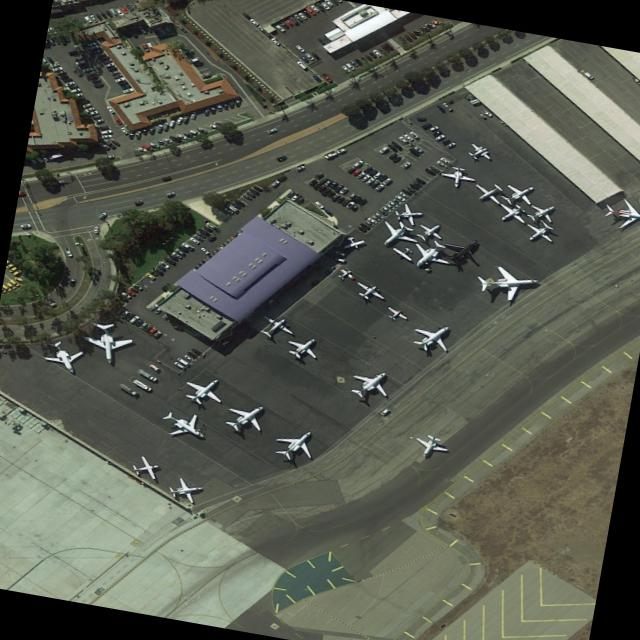large-vehicle: (116, 381, 138, 395), (134, 367, 157, 380), (130, 377, 152, 390), (45, 150, 64, 159), (125, 313, 139, 323), (175, 356, 189, 365), (171, 359, 184, 368), (378, 406, 389, 414), (333, 255, 345, 262), (97, 127, 111, 133), (631, 76, 640, 84)
plane: (264, 419, 328, 466), (340, 360, 402, 404), (214, 394, 277, 437), (153, 403, 216, 446), (401, 314, 463, 357), (433, 230, 494, 271), (472, 264, 541, 300), (175, 368, 234, 410), (79, 319, 133, 364), (400, 233, 456, 274), (367, 214, 423, 253), (39, 339, 89, 374), (493, 177, 544, 211), (250, 308, 299, 343), (279, 329, 327, 362), (515, 215, 562, 247), (464, 176, 512, 207), (407, 429, 451, 461), (601, 194, 640, 230), (519, 196, 565, 226), (488, 198, 533, 228), (436, 162, 476, 190), (165, 476, 206, 503), (409, 216, 448, 244), (347, 277, 387, 303), (127, 452, 164, 479), (391, 201, 424, 225), (461, 139, 495, 162), (379, 303, 409, 322), (388, 241, 416, 261), (330, 264, 358, 282), (338, 233, 367, 250)
small-vehicle: (579, 68, 593, 79), (101, 138, 115, 148), (178, 240, 193, 249), (162, 255, 175, 265), (295, 58, 306, 69), (440, 100, 452, 110), (413, 174, 425, 184), (385, 198, 398, 207), (272, 22, 285, 31), (146, 361, 159, 370), (189, 346, 202, 355), (169, 249, 182, 258), (171, 323, 184, 332), (107, 136, 120, 145), (232, 197, 245, 206), (128, 281, 142, 289), (409, 144, 423, 152), (122, 309, 133, 319), (403, 183, 415, 192), (410, 177, 422, 186), (276, 19, 288, 28), (246, 16, 258, 25), (379, 204, 391, 213), (376, 206, 388, 215), (186, 349, 198, 358), (172, 246, 184, 255), (160, 309, 172, 318), (159, 281, 171, 290), (407, 147, 419, 156), (396, 134, 408, 143), (229, 200, 241, 209), (322, 150, 337, 157), (432, 132, 445, 140), (156, 259, 169, 267), (200, 224, 213, 232), (122, 287, 135, 295), (221, 206, 234, 214), (480, 106, 491, 115), (289, 190, 300, 199), (397, 189, 408, 198), (407, 180, 418, 189), (304, 5, 315, 14), (313, 1, 324, 10), (282, 17, 293, 26), (320, 72, 331, 81), (343, 60, 354, 69), (150, 328, 161, 337), (112, 304, 123, 313), (147, 301, 158, 310), (357, 53, 368, 62), (315, 35, 326, 44), (385, 142, 396, 151), (401, 132, 412, 141), (348, 202, 359, 211), (240, 191, 251, 200), (135, 145, 149, 152), (382, 201, 394, 209), (438, 155, 450, 163), (265, 125, 277, 133), (309, 72, 321, 80), (268, 36, 280, 44), (372, 210, 384, 218), (187, 235, 199, 243), (190, 232, 202, 240), (194, 229, 206, 237), (196, 226, 208, 234), (204, 220, 216, 228), (116, 293, 128, 301), (92, 79, 104, 87), (96, 140, 108, 148), (372, 182, 384, 190), (407, 130, 419, 138), (343, 200, 355, 208), (246, 186, 258, 194), (83, 68, 96, 75), (89, 75, 102, 82), (112, 75, 125, 82), (181, 130, 194, 137), (166, 134, 179, 141), (82, 104, 95, 111), (88, 112, 101, 119), (366, 179, 379, 186), (250, 184, 263, 191), (285, 188, 294, 198), (296, 10, 306, 19), (300, 8, 310, 17), (378, 42, 388, 51), (382, 40, 392, 49), (198, 245, 208, 254), (64, 82, 79, 88), (152, 138, 167, 144), (139, 143, 154, 149), (8, 277, 18, 286), (362, 164, 372, 173), (366, 166, 376, 175), (160, 22, 170, 31), (136, 23, 146, 32), (144, 40, 154, 49), (96, 209, 107, 217), (400, 187, 411, 195), (434, 158, 445, 166), (322, 207, 333, 215), (312, 199, 323, 207), (287, 15, 298, 23), (308, 3, 319, 11), (317, 0, 328, 8), (400, 32, 411, 40), (255, 23, 266, 31), (302, 51, 313, 59), (293, 43, 304, 51), (347, 58, 358, 66), (352, 56, 363, 64), (368, 213, 379, 221), (362, 218, 373, 226), (119, 289, 130, 297), (192, 58, 203, 66), (183, 47, 194, 55), (91, 46, 102, 54), (37, 152, 48, 160), (358, 172, 369, 180), (316, 174, 327, 182), (331, 182, 342, 190), (336, 185, 347, 193), (350, 193, 361, 201), (345, 164, 356, 172), (381, 175, 392, 183), (496, 117, 507, 125), (338, 197, 349, 205), (81, 14, 92, 22), (439, 137, 451, 144), (335, 145, 347, 152), (420, 121, 432, 128), (390, 196, 402, 203), (392, 193, 404, 200), (416, 24, 430, 30), (181, 353, 193, 360), (332, 248, 344, 255), (358, 222, 370, 229), (364, 215, 376, 222), (81, 65, 93, 72), (85, 39, 97, 46), (99, 57, 111, 64), (160, 136, 172, 143), (187, 55, 199, 62), (141, 322, 150, 331), (153, 304, 162, 313), (152, 122, 161, 131), (173, 114, 182, 123), (67, 276, 75, 286), (294, 195, 304, 203), (292, 12, 302, 20), (308, 50, 318, 58), (365, 49, 375, 57), (370, 47, 380, 55), (155, 263, 165, 271), (151, 265, 161, 273), (136, 320, 146, 328), (118, 308, 128, 316), (178, 113, 188, 121), (327, 179, 337, 187), (322, 177, 332, 185), (356, 196, 366, 204), (350, 167, 360, 175), (175, 24, 185, 32), (400, 159, 410, 167), (386, 151, 396, 159), (389, 139, 399, 147), (351, 158, 361, 166), (240, 10, 250, 18), (155, 25, 165, 33), (117, 4, 127, 12), (113, 6, 123, 14), (276, 173, 286, 181), (93, 11, 103, 19), (107, 7, 117, 15), (120, 86, 133, 92), (53, 68, 66, 74), (118, 81, 131, 87), (208, 122, 221, 128), (186, 128, 199, 134), (173, 132, 186, 138), (96, 54, 109, 60), (68, 86, 81, 92), (444, 140, 455, 147), (275, 154, 286, 161), (424, 167, 435, 174), (428, 164, 439, 171), (143, 271, 154, 278), (147, 268, 158, 275), (4, 281, 15, 288), (353, 170, 364, 177), (363, 176, 374, 183), (377, 145, 388, 152), (227, 203, 238, 210), (52, 178, 67, 183), (163, 189, 175, 195), (159, 174, 171, 180), (406, 30, 415, 38), (299, 53, 308, 61), (340, 63, 349, 71), (132, 317, 141, 325), (5, 260, 14, 268), (72, 54, 84, 60), (74, 57, 86, 63), (86, 72, 98, 78), (46, 35, 55, 43), (60, 75, 72, 81), (115, 78, 127, 84), (111, 71, 123, 77), (212, 119, 224, 125), (105, 64, 117, 70), (108, 68, 120, 74), (64, 79, 76, 85), (63, 246, 72, 254), (147, 140, 159, 146), (80, 101, 92, 107), (85, 108, 97, 114), (112, 115, 121, 123), (132, 128, 140, 137), (346, 191, 355, 199), (325, 189, 334, 197), (334, 194, 343, 202), (124, 2, 132, 11), (143, 23, 152, 31), (139, 42, 148, 50), (199, 71, 211, 77), (98, 10, 107, 18), (294, 163, 304, 170), (431, 129, 441, 136), (269, 179, 279, 186), (422, 22, 436, 27), (361, 52, 371, 59), (355, 225, 365, 232), (146, 325, 156, 332), (58, 33, 65, 43), (44, 54, 54, 61), (7, 264, 17, 271), (72, 94, 86, 99), (101, 153, 115, 158), (103, 105, 113, 112), (306, 178, 316, 185), (319, 186, 329, 193), (370, 170, 380, 177), (244, 189, 254, 196), (427, 123, 438, 129), (10, 268, 21, 274), (92, 116, 103, 122), (50, 65, 63, 70), (56, 72, 69, 77), (77, 98, 90, 103), (435, 102, 443, 110), (51, 35, 59, 43), (129, 1, 137, 9), (206, 232, 215, 239), (313, 171, 322, 178), (311, 180, 320, 187), (376, 172, 385, 179), (390, 154, 399, 161), (330, 192, 339, 199), (195, 127, 207, 132), (93, 51, 105, 56), (71, 91, 83, 96), (315, 183, 325, 189), (160, 121, 167, 129), (167, 118, 174, 126), (88, 13, 96, 20), (104, 10, 112, 17), (131, 198, 142, 203), (48, 61, 59, 66), (477, 111, 486, 117), (103, 61, 112, 67), (141, 124, 147, 133), (118, 126, 127, 132), (233, 95, 239, 104), (189, 109, 195, 118), (17, 222, 30, 226), (323, 0, 333, 5), (89, 44, 99, 49), (46, 300, 56, 305), (13, 275, 23, 280), (147, 123, 154, 130), (414, 115, 426, 119), (92, 224, 98, 232), (411, 29, 423, 33), (428, 19, 440, 23), (100, 133, 112, 137), (202, 106, 208, 114), (209, 103, 215, 111), (227, 97, 233, 105), (215, 101, 220, 109), (221, 100, 226, 108)
